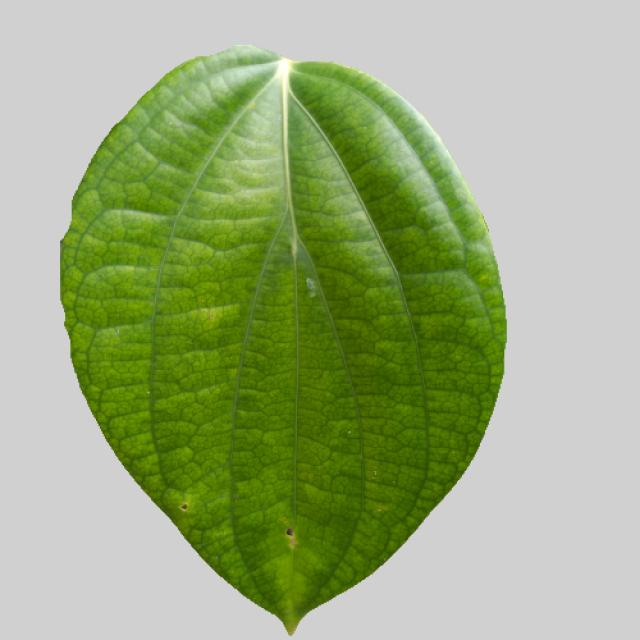healthy: (54, 41, 516, 634)
